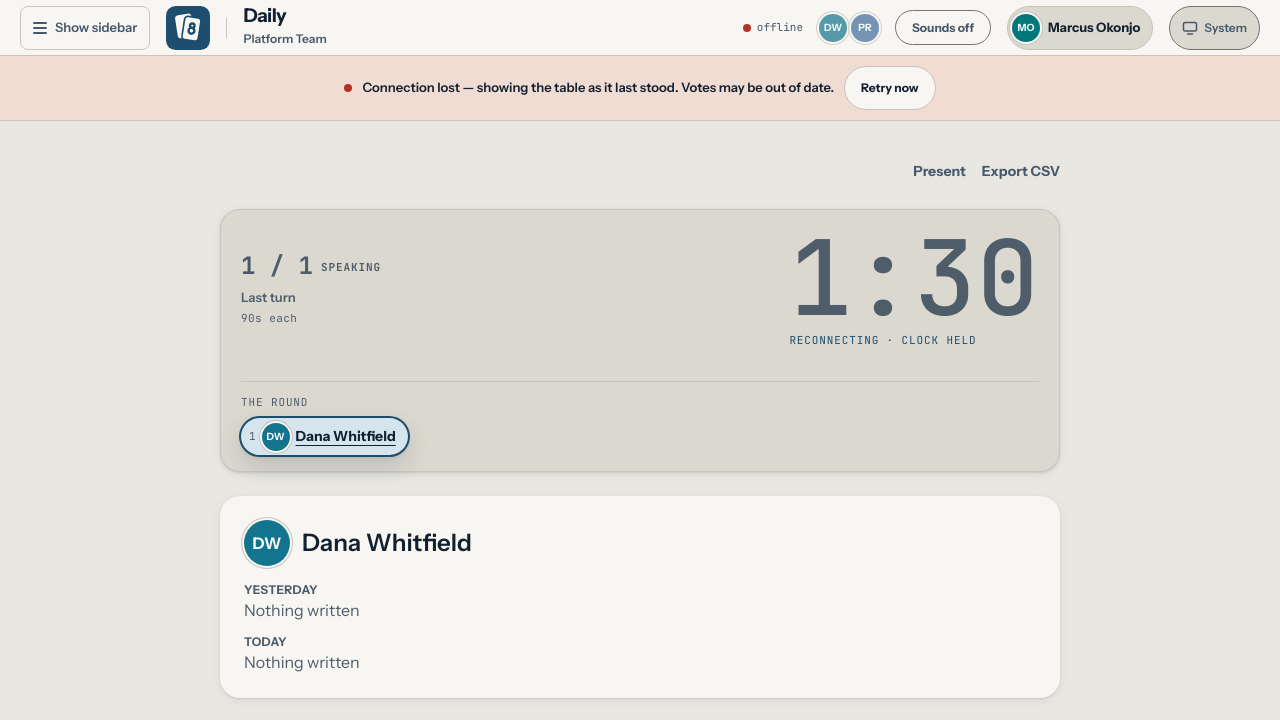
Test: SessionPage wiring › says a member seated in another session is there, from the space roster's own at
The width and height of the screenshot is (1280, 720).
What coordinates should you click on to do the following:
click the button with aria-label "Priya Rao"
I would click on:
 (865, 28)
Its box is [851, 13, 879, 42].
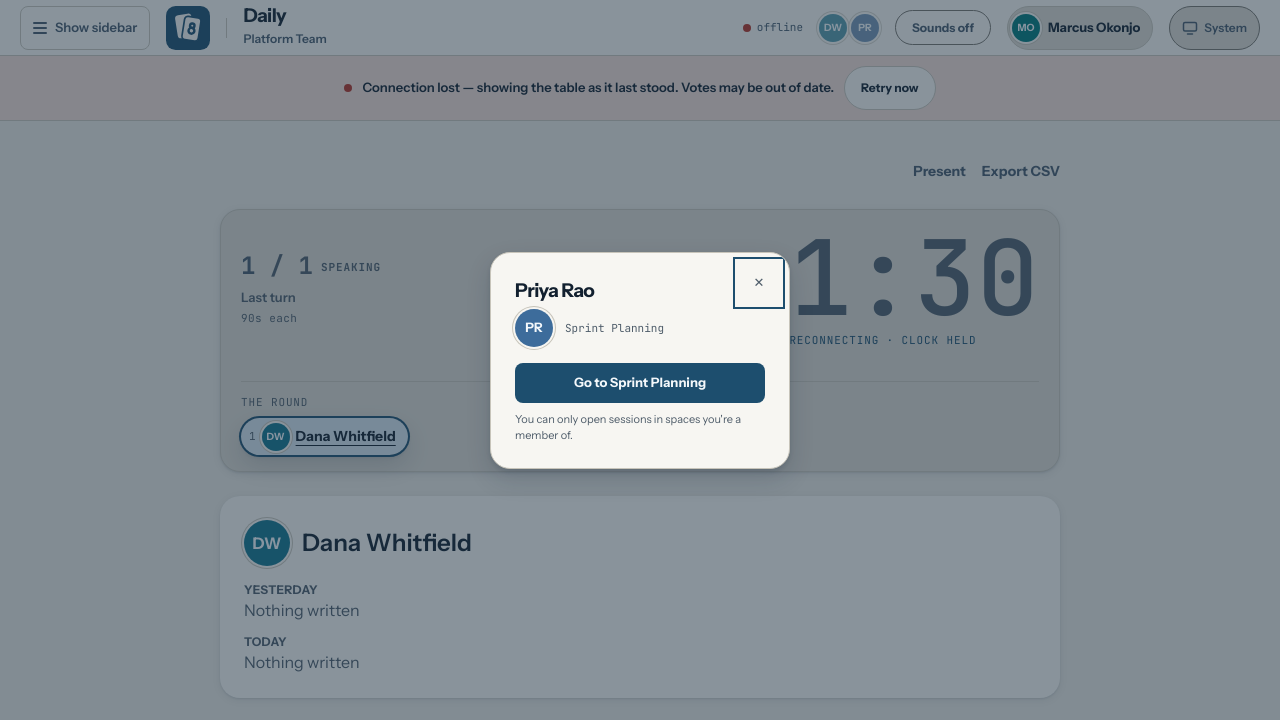
Now the text "Sprint Planning" is shown, box [565, 320, 664, 336]
Now the button "Go to Sprint Planning" is shown, box [515, 363, 765, 402]
